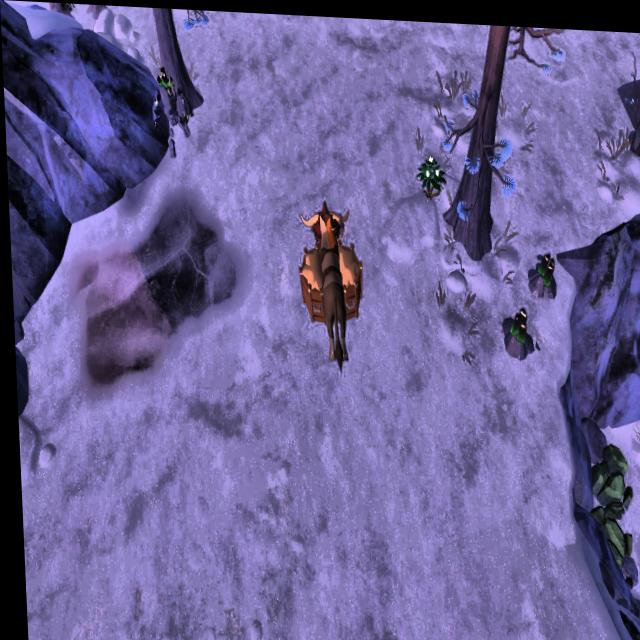fiber_t3: (416, 149, 446, 193)
ore_t3: (507, 300, 527, 340), (536, 245, 552, 280)
rock_t3: (579, 435, 631, 503), (586, 505, 631, 562)
